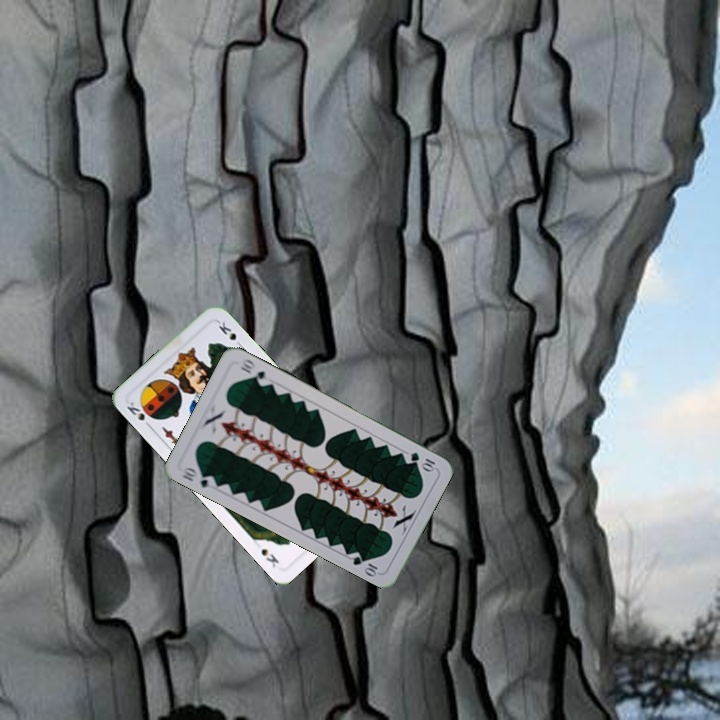G10: (178, 462, 218, 491), (406, 448, 438, 474)
SK: (122, 398, 155, 431)
